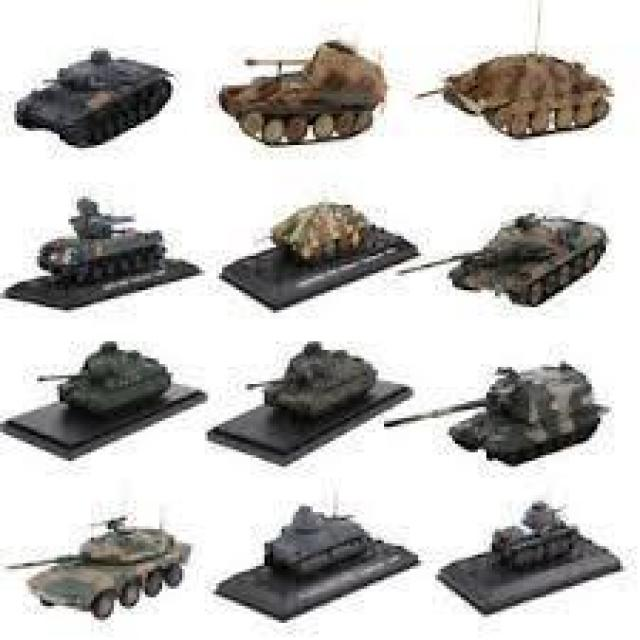Tanks: (422, 43, 622, 165), (431, 200, 619, 323), (13, 41, 175, 172), (210, 39, 396, 152), (6, 515, 185, 617), (454, 364, 604, 467), (255, 492, 382, 597), (249, 333, 385, 424), (266, 204, 394, 298), (39, 346, 170, 434), (489, 482, 583, 599), (31, 200, 171, 278)
